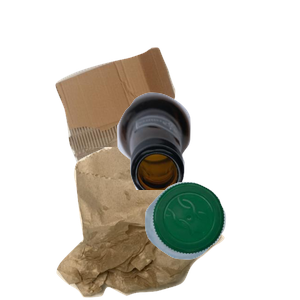cardboard: (53, 45, 221, 204)
glass: (115, 90, 300, 270)
plastic: (142, 179, 300, 300)
trash: (54, 147, 271, 300)
